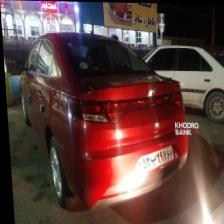plate: (129, 141, 174, 176)
